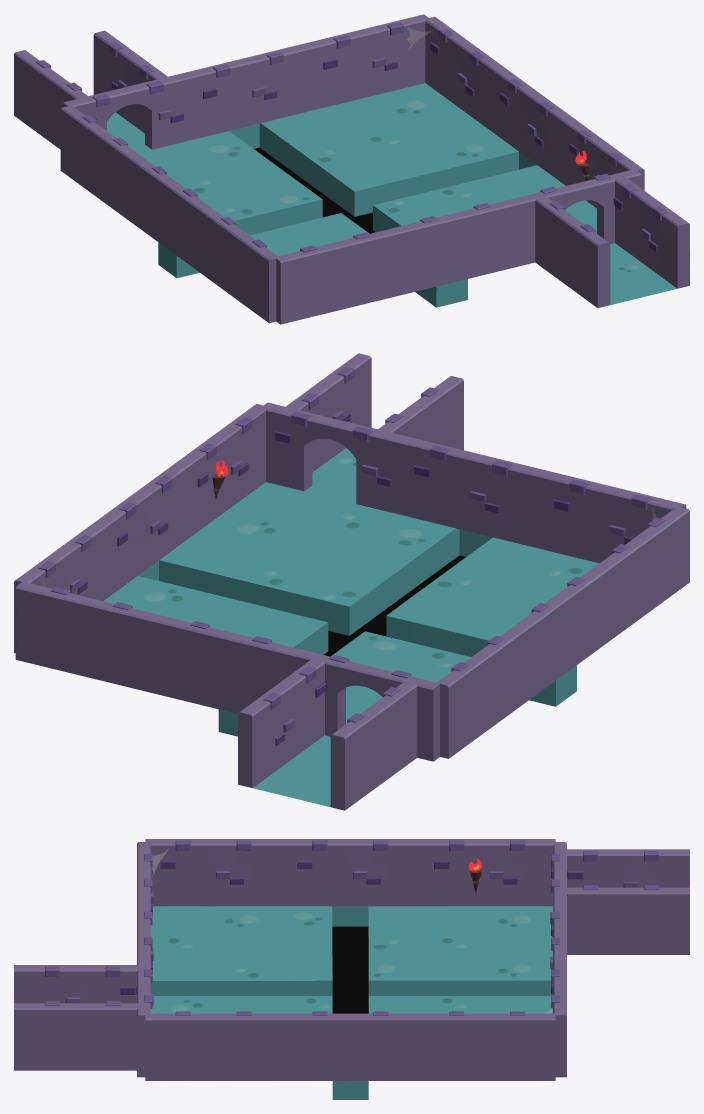
The model's file is RoomCrossBake.glb.
3 views of the same model, one above another, from view 1: azimuth 30°, elevation 25°; view 2: azimuth 150°, elevation 25°; view 3: azimuth 270°, elevation 25° (orthographic). The views are drawn at different scales.
Parts seen in each view (by area): view 1: Bake; view 2: Bake; view 3: Bake.
Part boxes in pixels (<box>): Bake: <box>14,14,689,324</box>; Bake: <box>14,353,689,810</box>; Bake: <box>14,839,689,1099</box>.
Bounding box in the file's own units: 31.21 × 7.1 × 49.43.
Materials: 4 (1 with a texture image).
